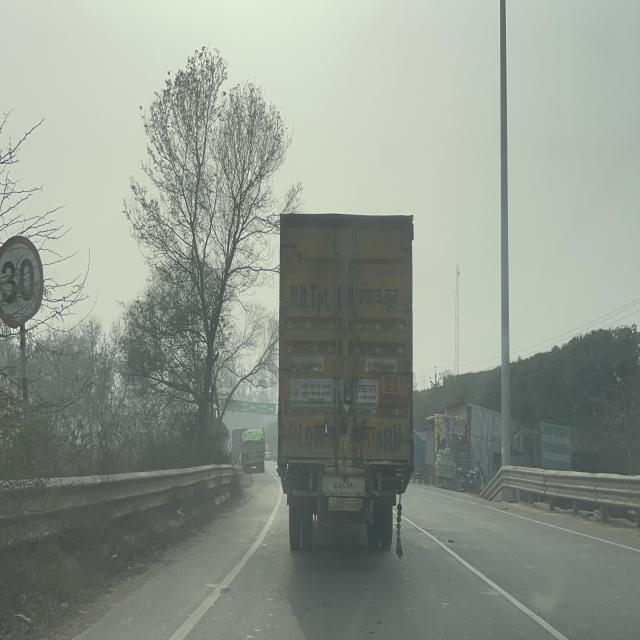SPEED_LIMIT_30: (0, 234, 44, 330)
